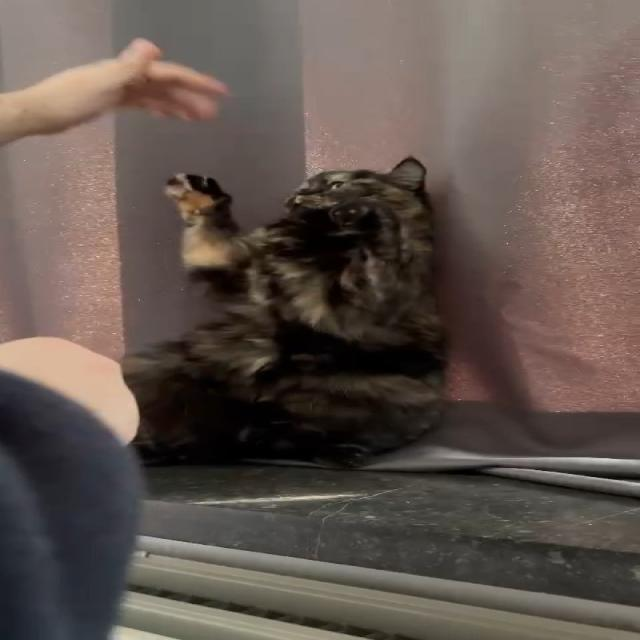authorized: (119, 154, 449, 468)
